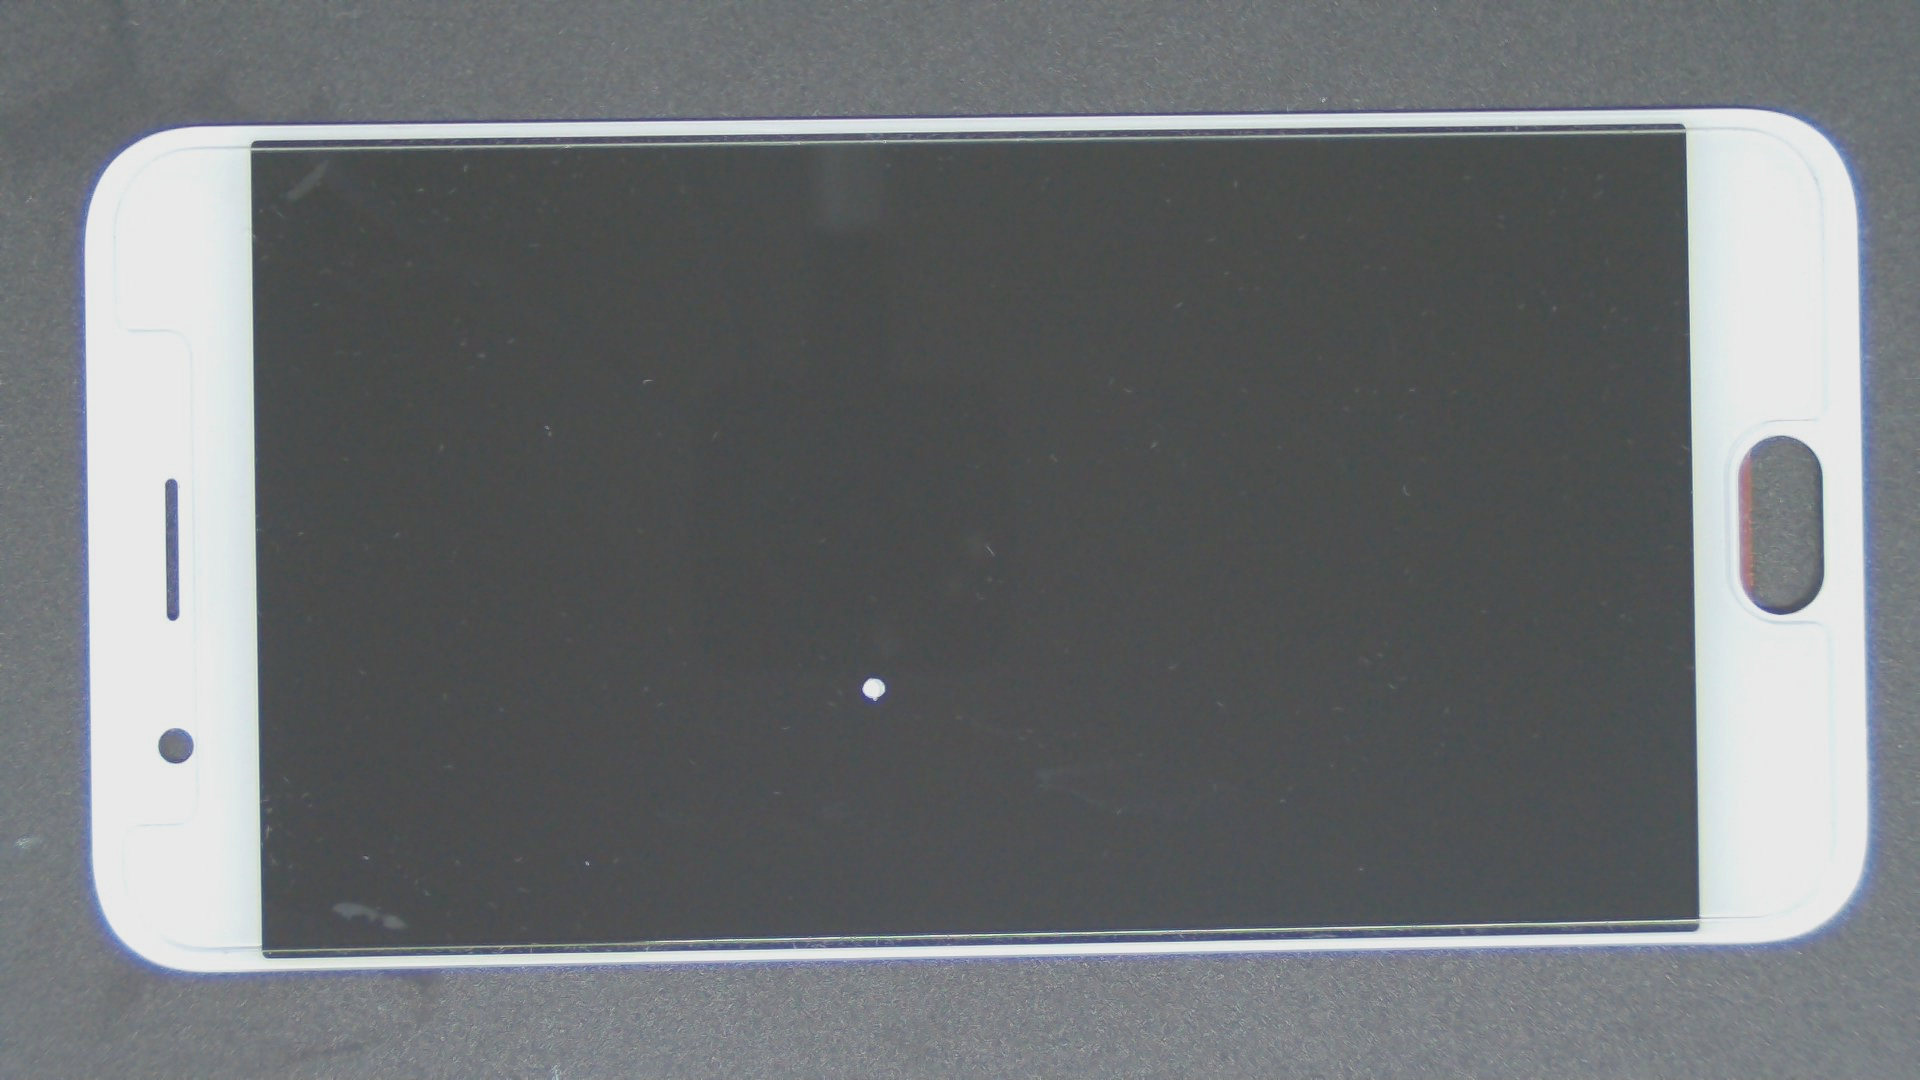oil: (436, 338, 1308, 1014)
